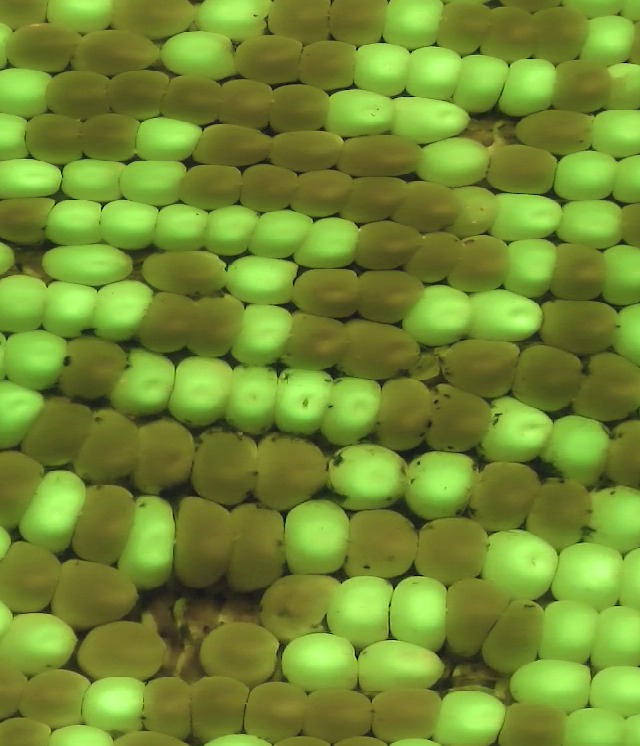fluorescent: (476, 523, 569, 608), (319, 439, 419, 515), (110, 492, 185, 592), (9, 465, 88, 559), (471, 388, 557, 470), (397, 446, 484, 524), (542, 538, 630, 614), (538, 408, 617, 491), (272, 627, 368, 695), (278, 496, 358, 577), (0, 605, 86, 679), (323, 568, 396, 655), (353, 633, 449, 699), (384, 572, 457, 658), (399, 280, 484, 353), (311, 372, 389, 450), (165, 350, 239, 432), (507, 652, 597, 717), (104, 343, 178, 422), (85, 274, 161, 348), (38, 237, 140, 292), (462, 286, 548, 349), (269, 361, 335, 443), (221, 360, 284, 445), (224, 298, 297, 371), (426, 686, 514, 746), (77, 673, 156, 739), (410, 131, 498, 190), (318, 84, 404, 143), (217, 253, 307, 309), (490, 54, 566, 120), (530, 597, 603, 665), (0, 325, 75, 391), (154, 28, 247, 81), (549, 148, 631, 208), (576, 480, 640, 556), (115, 153, 195, 213), (444, 49, 512, 118), (400, 40, 472, 105), (390, 93, 475, 148), (549, 194, 632, 250), (127, 112, 210, 167), (38, 277, 105, 345), (244, 206, 320, 265), (497, 234, 562, 302), (291, 213, 365, 272), (583, 598, 640, 674), (488, 190, 571, 242), (56, 153, 129, 210), (37, 194, 111, 250), (349, 40, 416, 101), (373, 1, 451, 53), (576, 9, 640, 71), (96, 195, 161, 254), (0, 376, 49, 453), (148, 200, 213, 258), (189, 1, 278, 43), (0, 63, 62, 122), (200, 202, 260, 261), (0, 272, 52, 340), (582, 103, 640, 163), (443, 184, 506, 239), (582, 660, 640, 719), (590, 240, 640, 308), (0, 154, 66, 204), (36, 1, 121, 38), (558, 705, 633, 746), (605, 297, 640, 374), (0, 108, 36, 167), (600, 58, 640, 111), (605, 151, 640, 207)
nonfluorescent: (214, 497, 299, 598), (45, 554, 147, 636), (248, 428, 337, 517), (75, 612, 177, 688), (339, 500, 426, 588), (169, 489, 239, 596), (460, 455, 548, 536), (16, 394, 101, 476), (65, 476, 139, 570), (406, 512, 495, 590), (506, 339, 590, 415), (194, 619, 289, 686), (437, 331, 526, 402), (474, 592, 545, 681), (187, 427, 265, 508), (70, 403, 146, 486), (370, 370, 443, 456), (332, 316, 426, 382), (534, 291, 625, 359), (259, 571, 343, 644), (0, 535, 73, 618), (564, 345, 640, 424), (520, 475, 600, 550), (53, 332, 133, 406), (442, 573, 505, 666), (418, 381, 495, 457), (177, 289, 255, 364), (127, 415, 198, 496), (136, 244, 235, 302), (63, 26, 167, 78), (13, 666, 96, 731), (506, 106, 604, 161), (366, 680, 449, 744), (286, 261, 366, 327), (297, 681, 379, 744), (279, 307, 356, 374), (482, 141, 564, 203), (442, 231, 519, 296), (331, 131, 431, 181), (239, 677, 311, 746), (349, 267, 429, 328), (1, 19, 86, 76), (349, 214, 427, 276), (135, 672, 202, 744), (185, 673, 252, 745), (132, 285, 197, 358), (229, 30, 309, 89), (545, 240, 618, 304), (385, 177, 462, 237), (41, 65, 118, 124), (263, 126, 350, 178), (186, 121, 280, 169), (528, 3, 597, 68), (16, 108, 88, 170), (0, 444, 49, 533), (234, 157, 306, 217), (476, 2, 544, 65), (488, 697, 575, 746), (294, 35, 365, 95), (338, 172, 413, 228), (174, 158, 249, 214), (75, 109, 147, 167), (548, 56, 618, 115), (154, 70, 224, 129), (102, 63, 172, 121), (264, 80, 336, 136), (404, 226, 471, 286), (285, 165, 354, 222), (100, 1, 202, 39), (213, 75, 276, 135), (432, 1, 498, 56), (321, 1, 392, 50), (598, 415, 640, 493), (262, 1, 336, 45), (0, 192, 56, 250), (0, 651, 38, 725), (0, 1, 54, 30)
